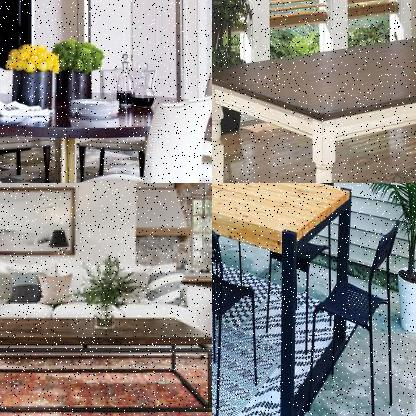table: (212, 183, 354, 415), (212, 28, 415, 182), (0, 312, 211, 415), (0, 90, 211, 182)
